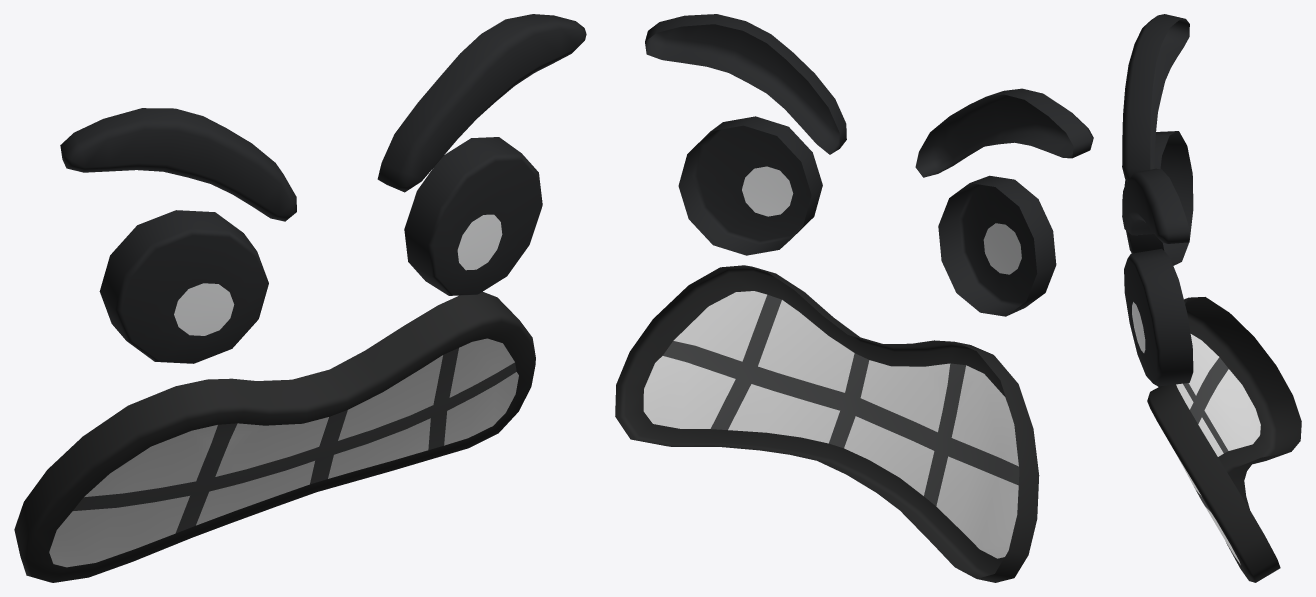
The model's file is Male_Emotion_Anger_01.glb.
3 renders of one model, left to right at view 1: azimuth 30°, elevation 25°; view 2: azimuth 150°, elevation 25°; view 3: azimuth 270°, elevation 25°, orthographic. The views are drawn at different scales.
Visible parts, largest first — view 1: Male_Emotion_Anger_01; view 2: Male_Emotion_Anger_01; view 3: Male_Emotion_Anger_01.
Boxes of the visible parts, x1=… form: Male_Emotion_Anger_01: x1=14, y1=14, x2=586, y2=582; Male_Emotion_Anger_01: x1=615, y1=14, x2=1093, y2=582; Male_Emotion_Anger_01: x1=1122, y1=14, x2=1301, y2=582.
Bounding box in the file's own units: 0.2289 × 0.2158 × 0.0811.
1 material, 1 textured.
